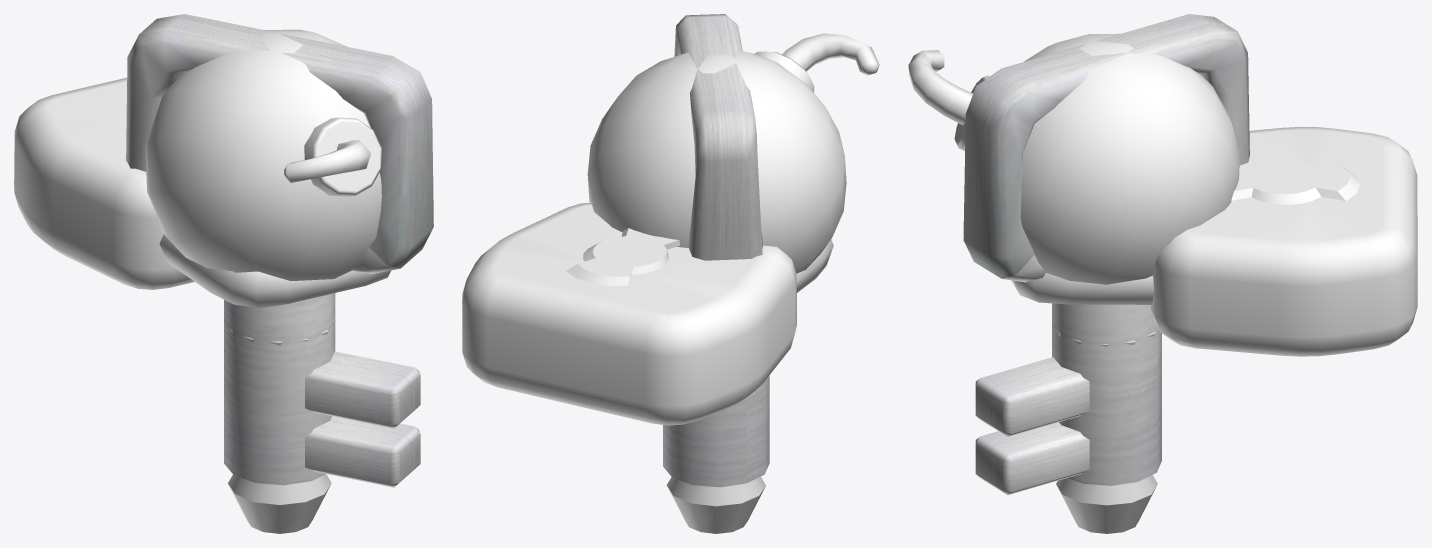
File: Pin.glb
3 renders of one model, left to right at view 1: azimuth 30°, elevation 25°; view 2: azimuth 150°, elevation 25°; view 3: azimuth 270°, elevation 25°, orthographic. The views are drawn at different scales.
Visible parts, largest first — view 1: KeynLock, SM_Bomb, pCube82, polySurface75, SM_Screw (1); view 2: pCube82, SM_Bomb, KeynLock, pCylinder2, SM_Screw (1), polySurface75; view 3: KeynLock, pCube82, SM_Bomb, pCylinder2, SM_Screw (1), polySurface75.
Boxes of the visible parts, x1,y1,x2,y2 form: KeynLock: [126, 14, 433, 487]; SM_Bomb: [145, 29, 381, 280]; pCube82: [14, 77, 194, 289]; polySurface75: [159, 234, 391, 307]; SM_Screw (1): [228, 318, 335, 533]; pCube82: [462, 202, 796, 425]; SM_Bomb: [587, 33, 879, 273]; KeynLock: [663, 14, 769, 487]; pCylinder2: [566, 228, 679, 285]; SM_Screw (1): [666, 476, 765, 533]; polySurface75: [796, 239, 833, 292]; KeynLock: [963, 14, 1249, 494]; pCube82: [1150, 127, 1417, 356]; SM_Bomb: [908, 33, 1239, 284]; pCylinder2: [1231, 161, 1359, 204]; SM_Screw (1): [1056, 329, 1157, 533]; polySurface75: [1011, 273, 1154, 304].
Size of the model in its own units: 2.44 by 3.93 by 3.82.
8 materials, 1 textured.
